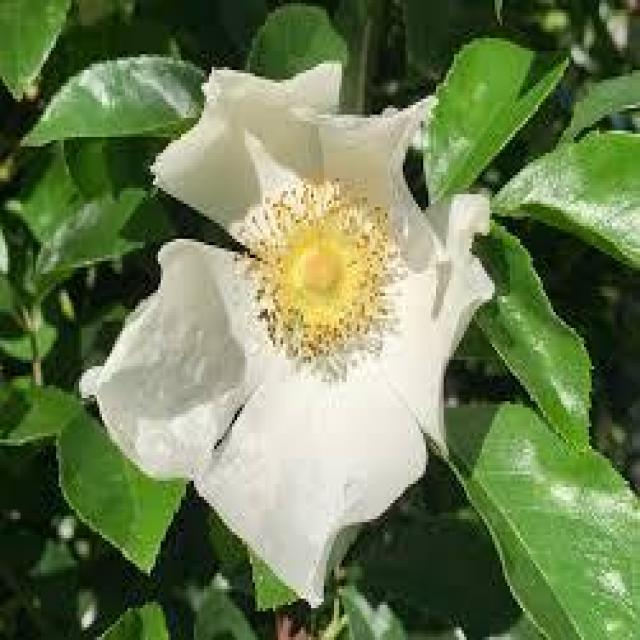organic waste: (116, 51, 488, 599)
